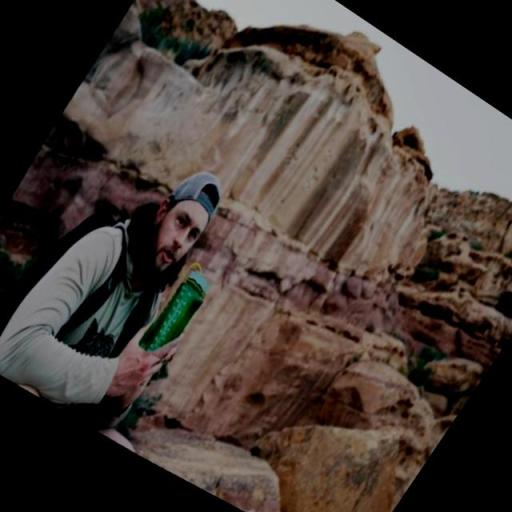bottle: (132, 256, 226, 370)
